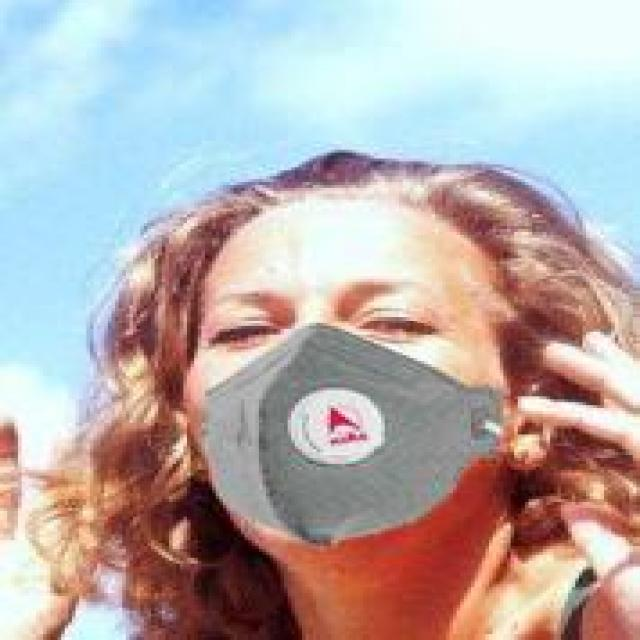mask: (101, 106, 597, 564)
